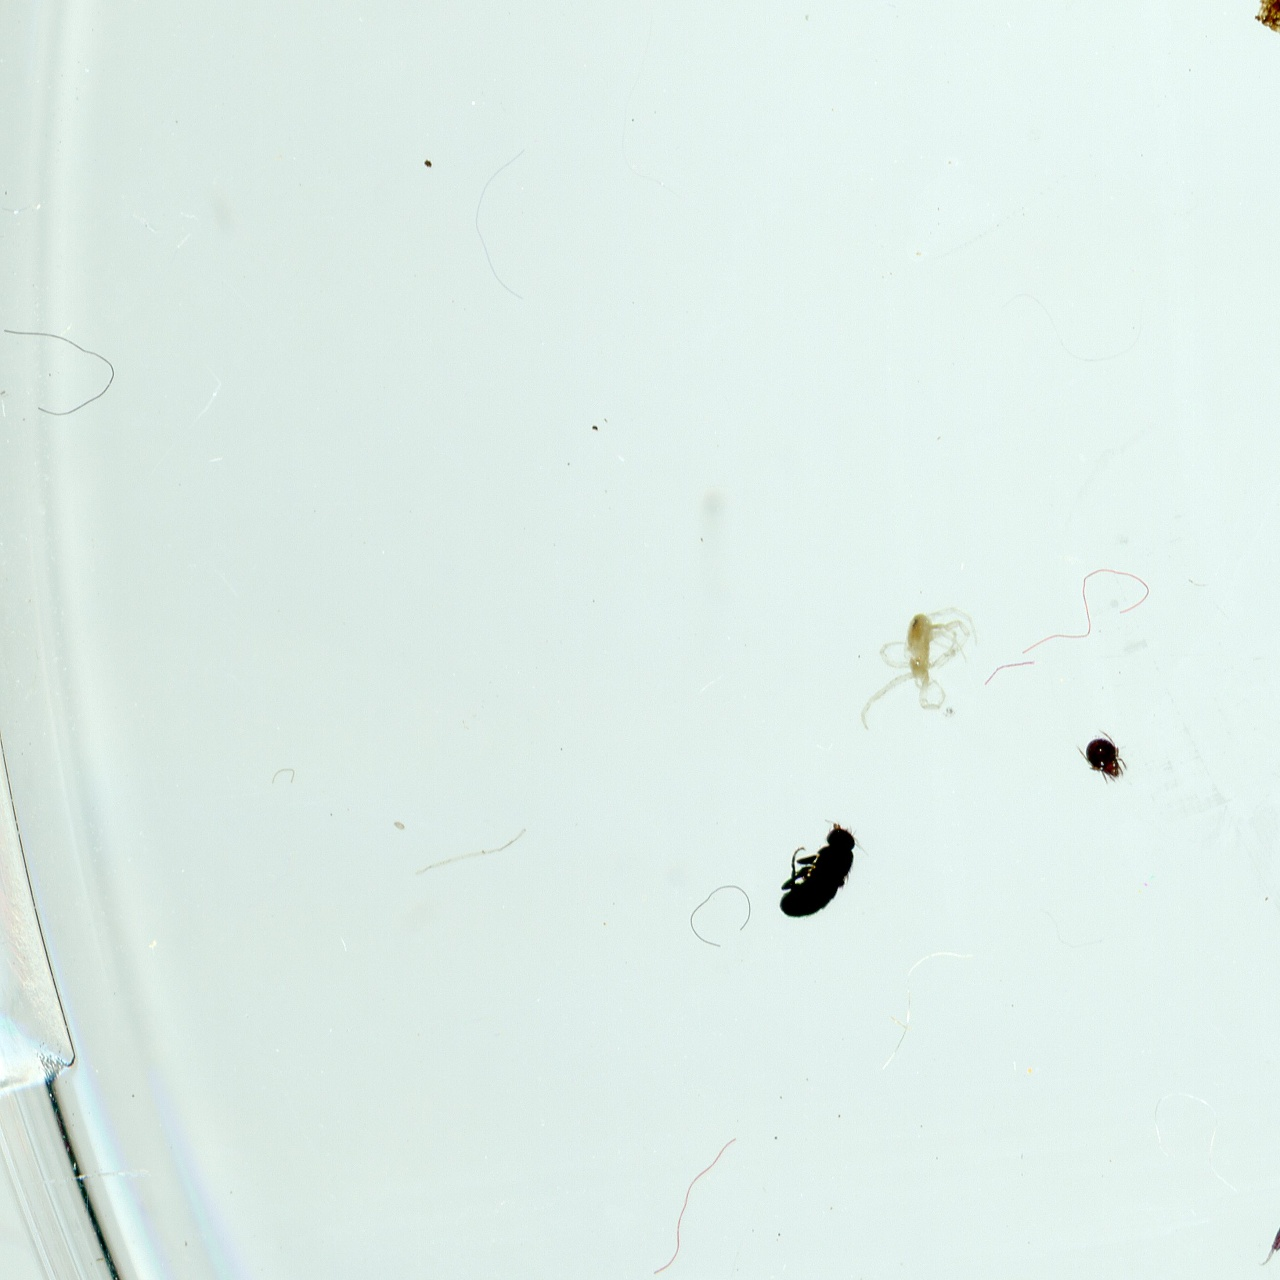arthropod: (751, 794, 893, 948), (857, 600, 986, 736), (1075, 726, 1133, 791), (1246, 1183, 1280, 1280)
